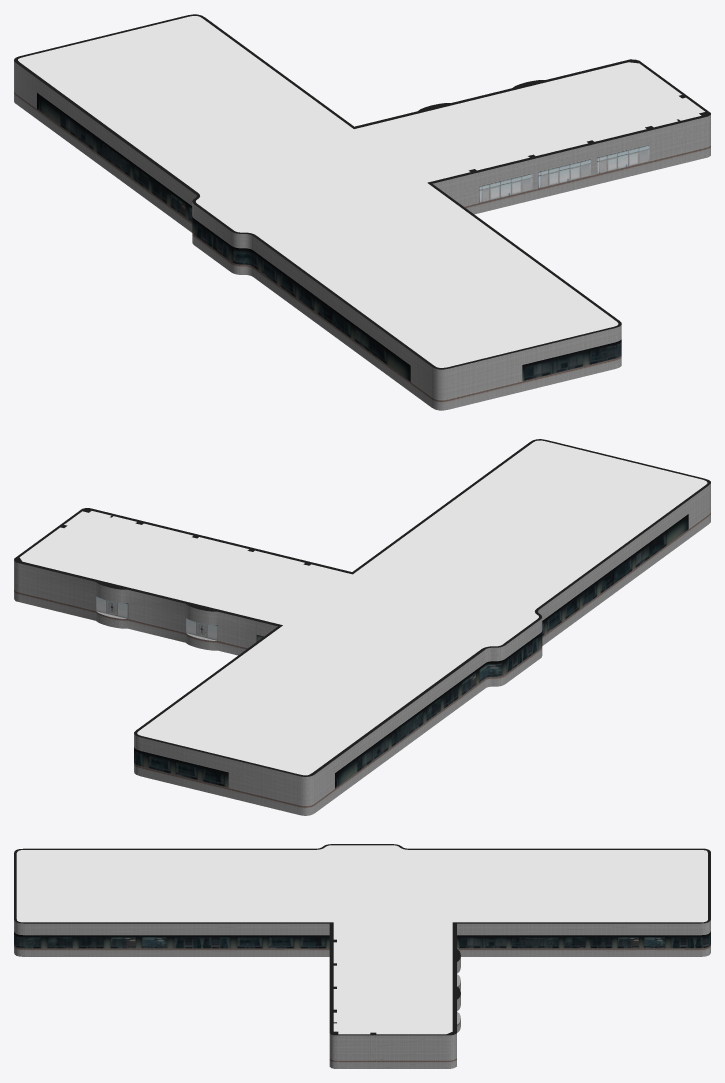
3 renders of one model, top to bottom at view 1: azimuth 30°, elevation 25°; view 2: azimuth 150°, elevation 25°; view 3: azimuth 270°, elevation 25°, orthographic. The views are drawn at different scales.
Parts seen in each view (by area): view 1: M_SUNGSIM0001F11F11_ISCL_0000001, M_SUNGSIM0001F11F11_ISWL_0000002, M_SUNGSIM0001F11F11_ISWD_0000003, M_SUNGSIM0001F11F11_ISWD_0000005, M_SUNGSIM0001F11F11_ISWD_0000004, M_SUNGSIM0001F11F11_ISWD_0000001, M_SUNGSIM0001F11F11_ISWD_0000002; view 2: M_SUNGSIM0001F11F11_ISCL_0000001, M_SUNGSIM0001F11F11_ISWL_0000002, M_SUNGSIM0001F11F11_ISWD_0000003, M_SUNGSIM0001F11F11_ISWD_0000005; view 3: M_SUNGSIM0001F11F11_ISCL_0000001, M_SUNGSIM0001F11F11_ISWL_0000002, M_SUNGSIM0001F11F11_ISWD_0000005.
Part boxes in pixels (x1,y1,x2,y2): M_SUNGSIM0001F11F11_ISCL_0000001: (18, 16, 704, 367); M_SUNGSIM0001F11F11_ISWL_0000002: (14, 14, 710, 410); M_SUNGSIM0001F11F11_ISWD_0000003: (37, 93, 410, 381); M_SUNGSIM0001F11F11_ISWD_0000005: (522, 339, 621, 381); M_SUNGSIM0001F11F11_ISWD_0000004: (479, 174, 532, 202); M_SUNGSIM0001F11F11_ISWD_0000001: (538, 159, 590, 188); M_SUNGSIM0001F11F11_ISWD_0000002: (597, 145, 649, 174); M_SUNGSIM0001F11F11_ISCL_0000001: (19, 440, 707, 775); M_SUNGSIM0001F11F11_ISWL_0000002: (14, 439, 710, 815); M_SUNGSIM0001F11F11_ISWD_0000003: (335, 514, 688, 788); M_SUNGSIM0001F11F11_ISWD_0000005: (134, 747, 228, 787); M_SUNGSIM0001F11F11_ISCL_0000001: (16, 845, 707, 1034); M_SUNGSIM0001F11F11_ISWL_0000002: (14, 844, 710, 1068); M_SUNGSIM0001F11F11_ISWD_0000005: (14, 931, 710, 948).
Bounding box in the file's own units: 49.14 × 4 × 75.62.
7 materials, 7 textured.
